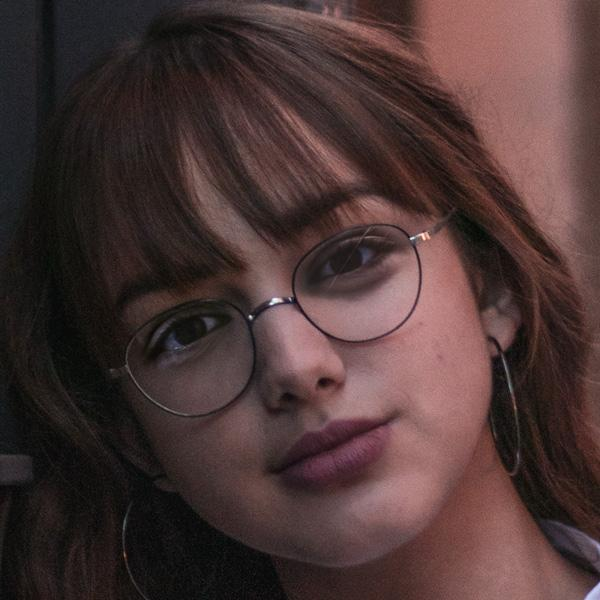Eyes: (303, 226, 398, 295), (143, 299, 244, 362)
